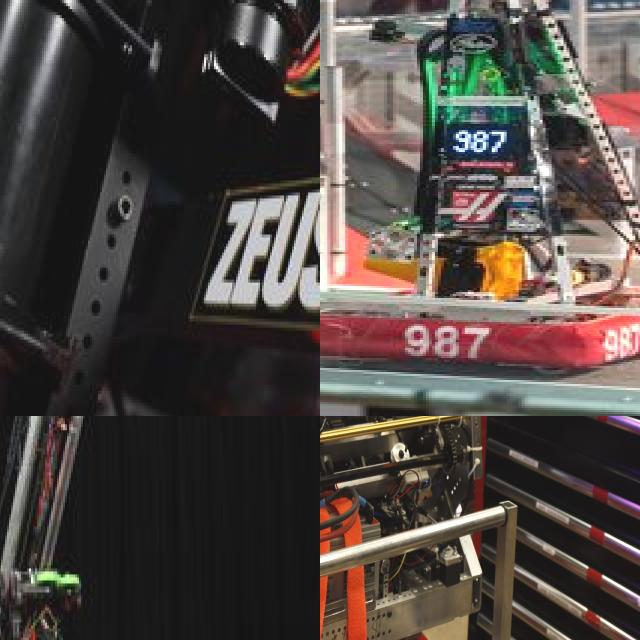FRC-Robots: (320, 0, 640, 411), (320, 416, 511, 640), (0, 416, 179, 640)
